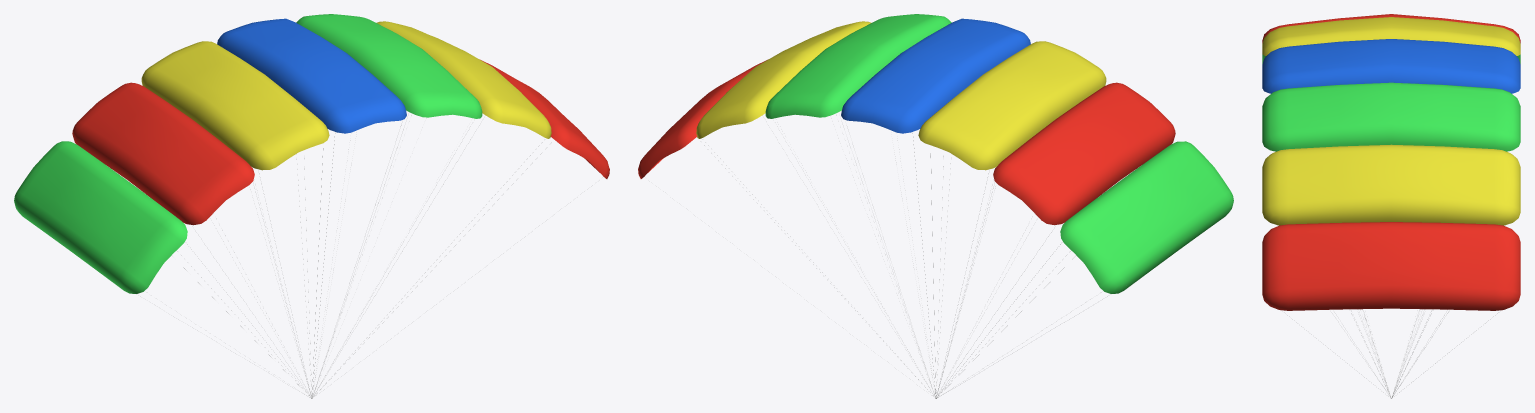
The model's file is Parachute.fbx.
The picture shows the model from 3 angles, left to right: view 1: azimuth 30°, elevation 25°; view 2: azimuth 150°, elevation 25°; view 3: azimuth 270°, elevation 25°; orthographic projection.
Parts seen in each view (by area): view 1: Cube; view 2: Cube; view 3: Cube.
Boxes of the visible parts, <box> form: Cube: <box>14,14,609,398</box>; Cube: <box>638,14,1233,398</box>; Cube: <box>1262,14,1520,398</box>.
Size of the model in its own units: 1006 by 450 by 672.
